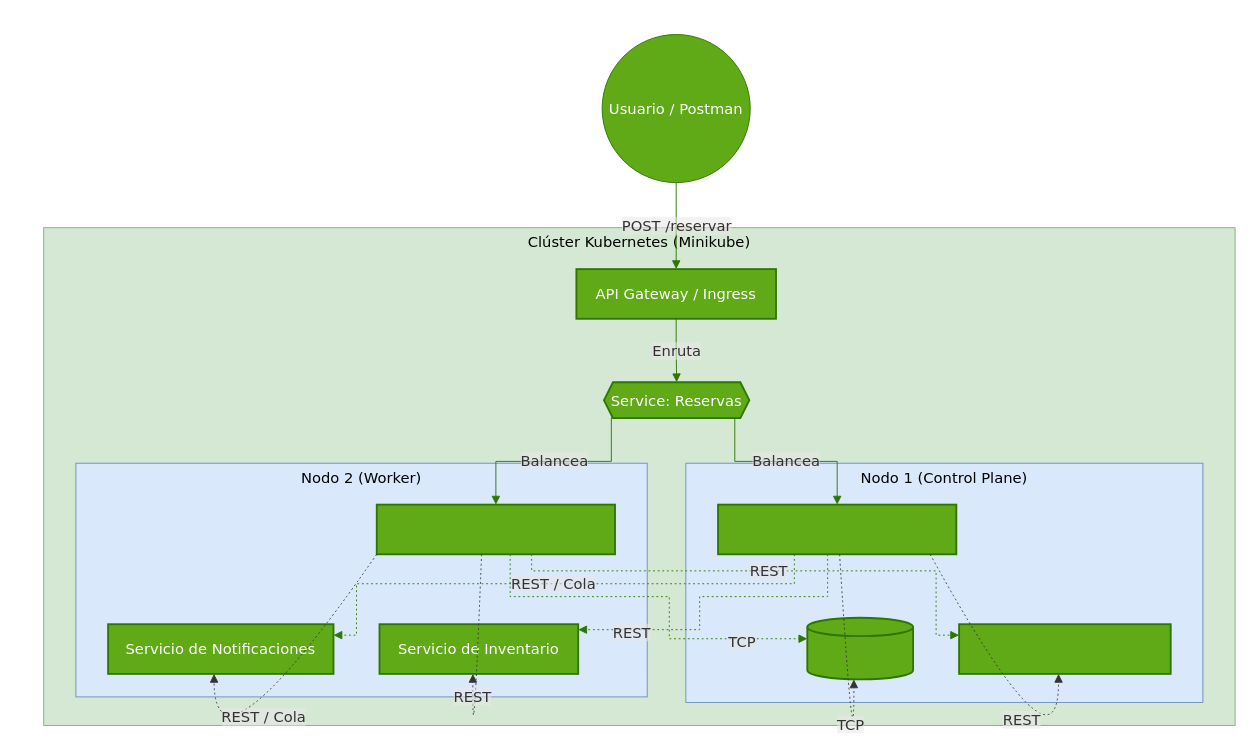
This 1251x749 diagram has some shape labels left out. The centre of each missing label's shape, as x and y in pixels:
Base de Datos: (860,648)
Servicio de Pagos - Stub: (1064,648)
Servicio de Reservas - Pod 1: (837,529)
Servicio de Reservas - Pod 2: (495,529)
